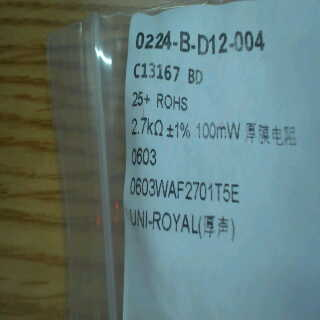2.7kR: (128, 114, 164, 141)
